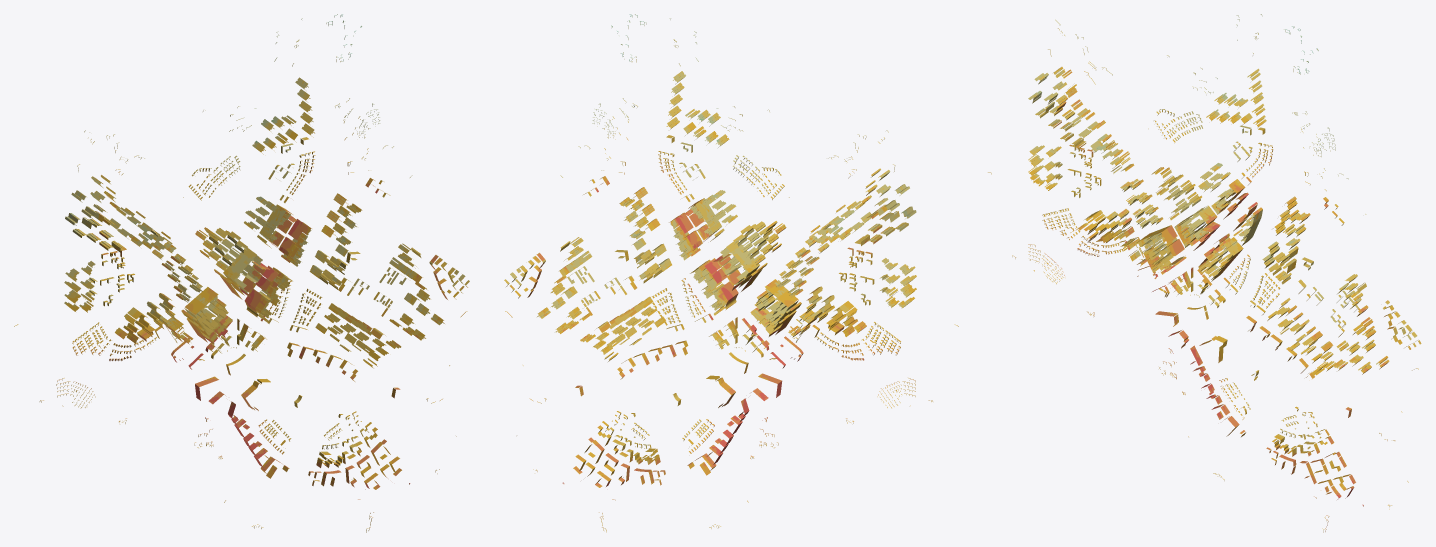
Rendered from Type_2_Res_Facade_Day.glb.
3 renders of one model, left to right at view 1: azimuth 30°, elevation 25°; view 2: azimuth 150°, elevation 25°; view 3: azimuth 330°, elevation 25°, orthographic. The views are drawn at different scales.
Visible parts, largest first — view 1: node; view 2: node; view 3: node.
Boxes of the visible parts, left/top/right/bottom form: node: left=14, top=14, right=469, bottom=532; node: left=504, top=14, right=958, bottom=532; node: left=988, top=14, right=1421, bottom=532.
Size of the model in its own units: 2272 by 2521 by 92.56.
